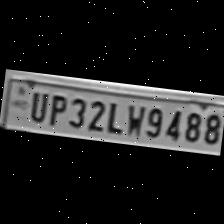2: (83, 94, 107, 132)
3: (64, 92, 86, 128)
4: (161, 106, 183, 142)
8: (180, 107, 202, 144), (200, 108, 222, 144)
9: (140, 103, 164, 139)
L: (101, 96, 124, 134)
P: (43, 90, 66, 127)
U: (23, 88, 47, 123)
W: (119, 100, 144, 136)
